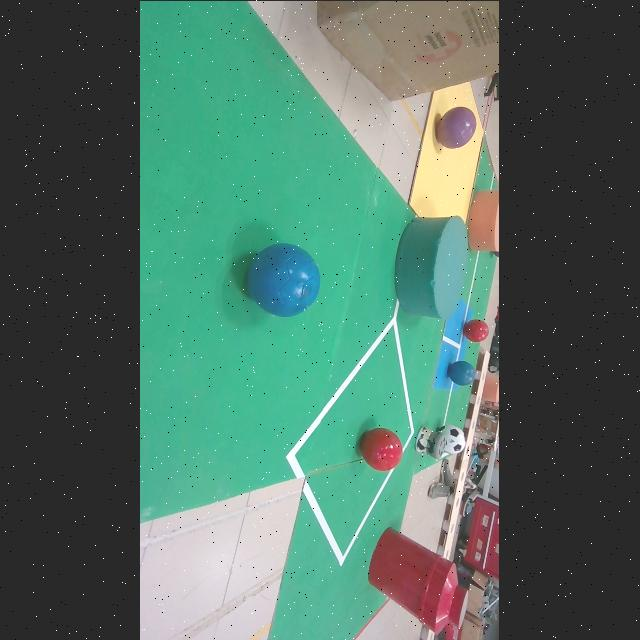B: (248, 243, 321, 315), (449, 360, 477, 384)
P: (437, 106, 477, 148)
R: (361, 427, 403, 470), (465, 318, 490, 341)
